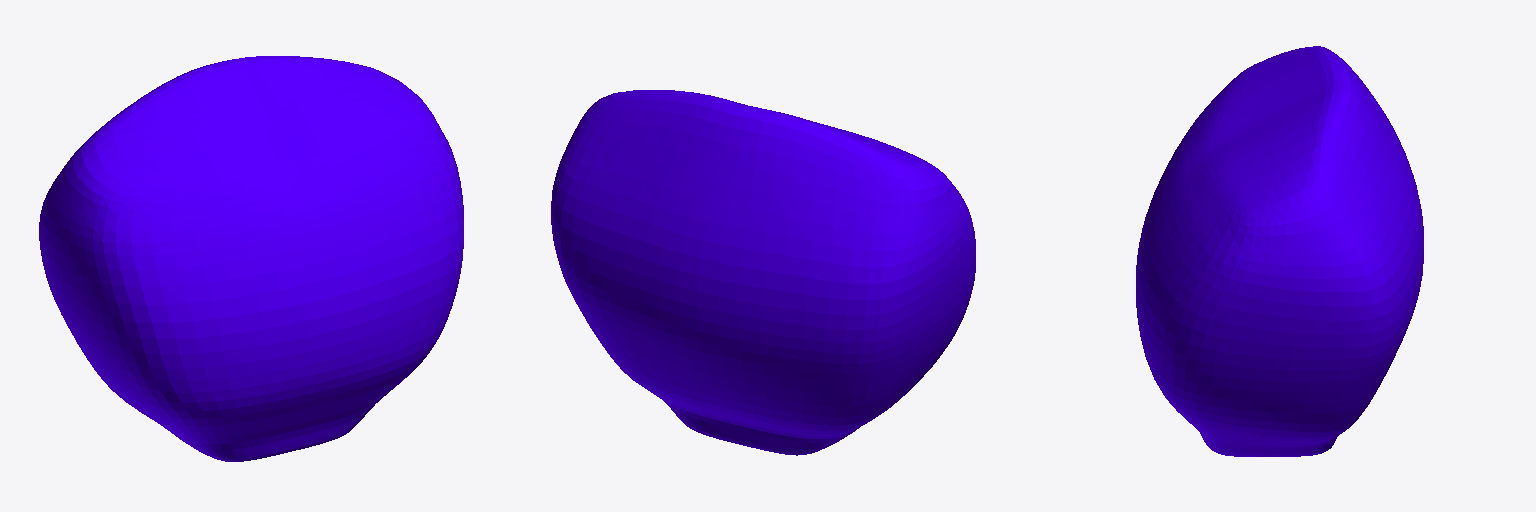
Rendered from m_torso.obj.
3 views of the same model, side by side, from view 1: azimuth 30°, elevation 25°; view 2: azimuth 150°, elevation 25°; view 3: azimuth 270°, elevation 25° (orthographic).
Visible parts, largest first — view 1: pCube3; view 2: pCube3; view 3: pCube3.
Boxes of the visible parts, box(x1,y1,x2,y2) form: pCube3: box(39, 56, 463, 461); pCube3: box(551, 90, 975, 455); pCube3: box(1136, 46, 1423, 456).
Size of the model in its own units: 1.75 by 1.54 by 1.17.